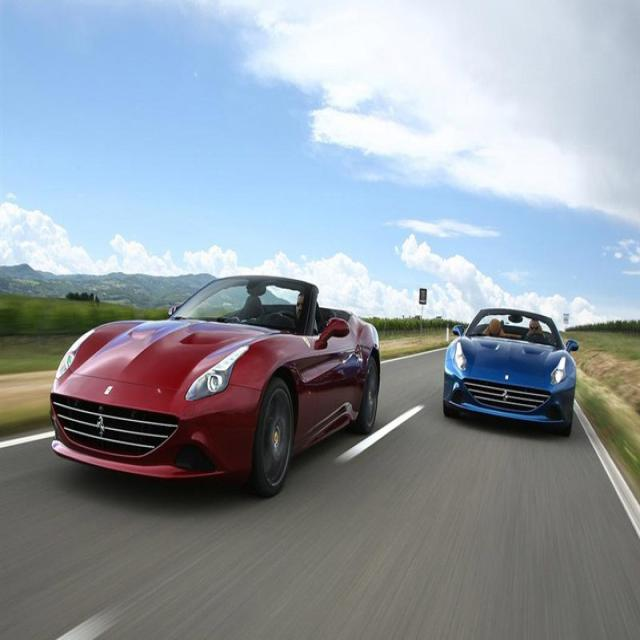front_bumper: (50, 364, 265, 478), (442, 367, 574, 427)
front_glass: (167, 278, 315, 333), (466, 310, 564, 348)
front_left_side_light: (182, 339, 252, 405), (550, 352, 569, 386)
front_left_side_mirror: (313, 316, 350, 350), (566, 335, 580, 358)
front_right_side_light: (55, 326, 97, 384), (454, 341, 469, 373)
front_right_side_mirror: (450, 320, 464, 338)
wheel: (249, 376, 296, 494), (354, 354, 381, 432)
